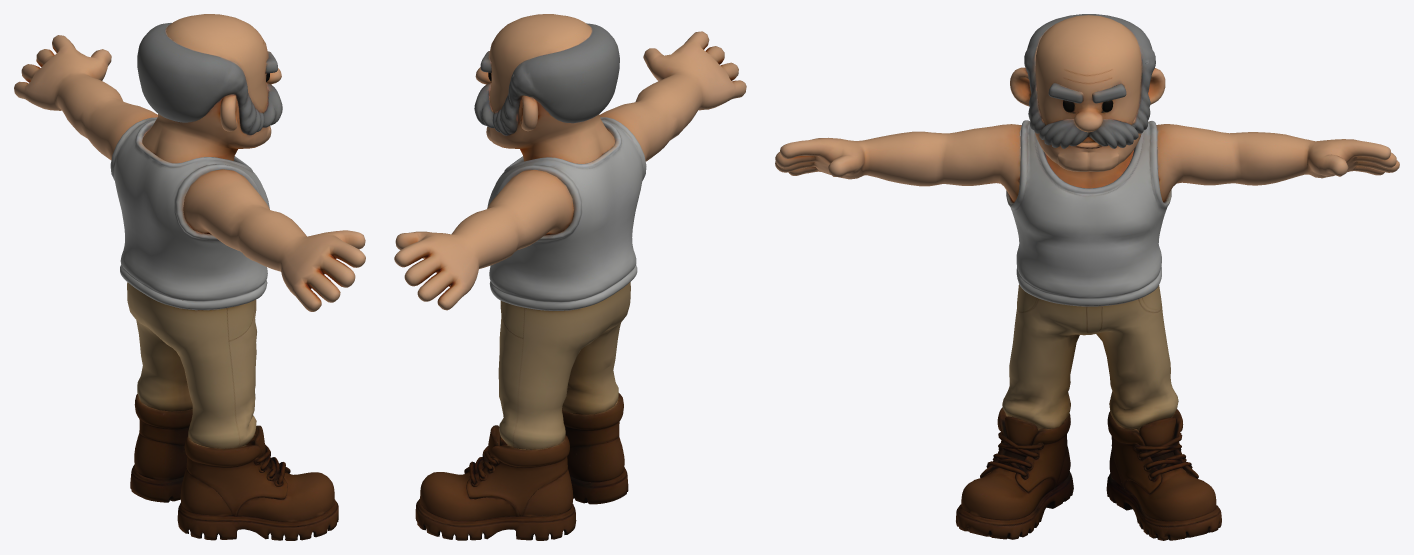
3 renders of one model, left to right at view 1: azimuth 30°, elevation 25°; view 2: azimuth 150°, elevation 25°; view 3: azimuth 270°, elevation 25°, orthographic.
Parts seen in each view (by area): view 1: tripo_node_01843d2d-2738-4059-8fe9-a8132b9a2902; view 2: tripo_node_01843d2d-2738-4059-8fe9-a8132b9a2902; view 3: tripo_node_01843d2d-2738-4059-8fe9-a8132b9a2902.
Part boxes in pixels (<box>): tripo_node_01843d2d-2738-4059-8fe9-a8132b9a2902: <box>14,14,365,540</box>; tripo_node_01843d2d-2738-4059-8fe9-a8132b9a2902: <box>394,14,746,540</box>; tripo_node_01843d2d-2738-4059-8fe9-a8132b9a2902: <box>775,14,1399,540</box>.
Bounding box in the file's own units: 0.2896 × 0.8511 × 0.9995.
1 material, 1 textured.
